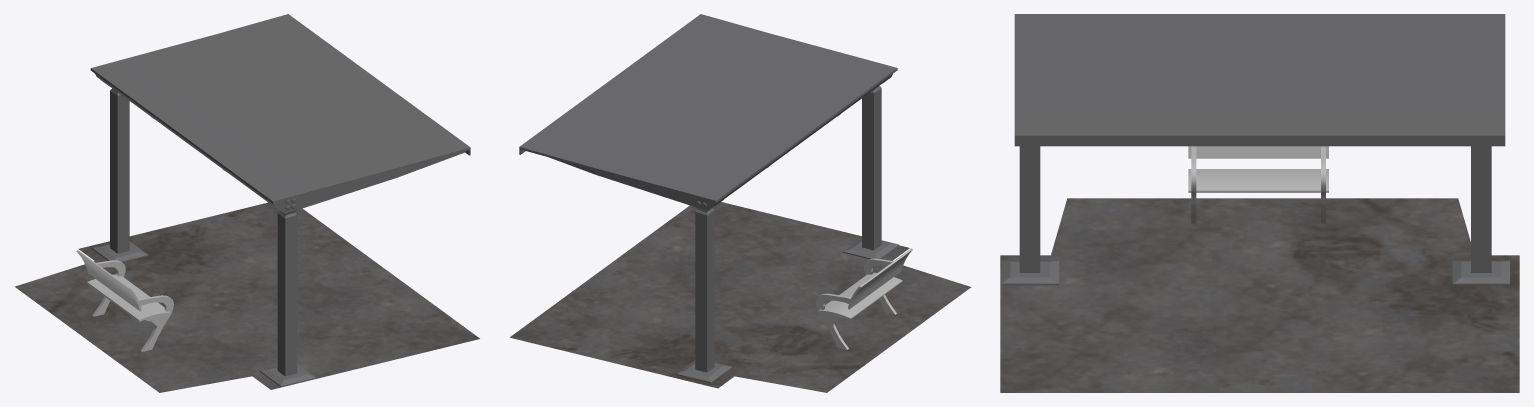
Rendered from ShelterBenchArea.fbx.
The picture shows the model from 3 angles, left to right: view 1: azimuth 30°, elevation 25°; view 2: azimuth 150°, elevation 25°; view 3: azimuth 270°, elevation 25°; orthographic projection. The views are drawn at different scales.
Visible parts, largest first — view 1: Floor, Rooftop, Rooftop1, Pillar, Pillar2, benchSeat, benchback, benchleg_left, PillarEdge, benchleg_right; view 2: Floor, Rooftop1, Rooftop, Pillar2, Pillar, benchSeat, benchback, benchleg_right, PillarEdge, benchleg_left; view 3: Floor, Rooftop1, Rooftop, Pillar, Pillar2, benchSeat, PillarEndEdge1, PillarEndEdge, benchback, benchleg_left.
Boxes of the visible parts, x1=… form: Floor: x1=15, y1=202, x2=479, y2=392; Rooftop: x1=182, y1=81, x2=470, y2=203; Rooftop1: x1=90, y1=14, x2=379, y2=136; Pillar: x1=259, y1=151, x2=464, y2=386; Pillar2: x1=92, y1=79, x2=148, y2=262; benchSeat: x1=87, y1=274, x2=171, y2=321; benchback: x1=76, y1=250, x2=141, y2=311; benchleg_left: x1=138, y1=295, x2=173, y2=351; PillarEdge: x1=95, y1=74, x2=274, y2=206; benchleg_right: x1=92, y1=260, x2=125, y2=316; Floor: x1=510, y1=202, x2=971, y2=392; Rooftop1: x1=519, y1=80, x2=807, y2=202; Rooftop: x1=610, y1=14, x2=897, y2=135; Pillar2: x1=550, y1=157, x2=732, y2=383; Pillar: x1=843, y1=77, x2=899, y2=259; benchSeat: x1=818, y1=272, x2=902, y2=319; benchback: x1=848, y1=248, x2=912, y2=309; benchleg_right: x1=815, y1=293, x2=851, y2=349; PillarEdge: x1=714, y1=74, x2=892, y2=205; benchleg_left: x1=863, y1=258, x2=896, y2=314; Floor: x1=1000, y1=198, x2=1519, y2=392; Rooftop1: x1=1259, y1=14, x2=1505, y2=138; Rooftop: x1=1014, y1=14, x2=1258, y2=138; Pillar: x1=1001, y1=146, x2=1058, y2=285; Pillar2: x1=1452, y1=146, x2=1509, y2=285; benchSeat: x1=1188, y1=169, x2=1328, y2=192; PillarEndEdge1: x1=1259, y1=139, x2=1505, y2=146; PillarEndEdge: x1=1014, y1=139, x2=1258, y2=146; benchback: x1=1188, y1=146, x2=1328, y2=158; benchleg_left: x1=1191, y1=146, x2=1196, y2=223.
Size of the model in its own units: 447 by 272 by 503.
1 material, 1 textured.
